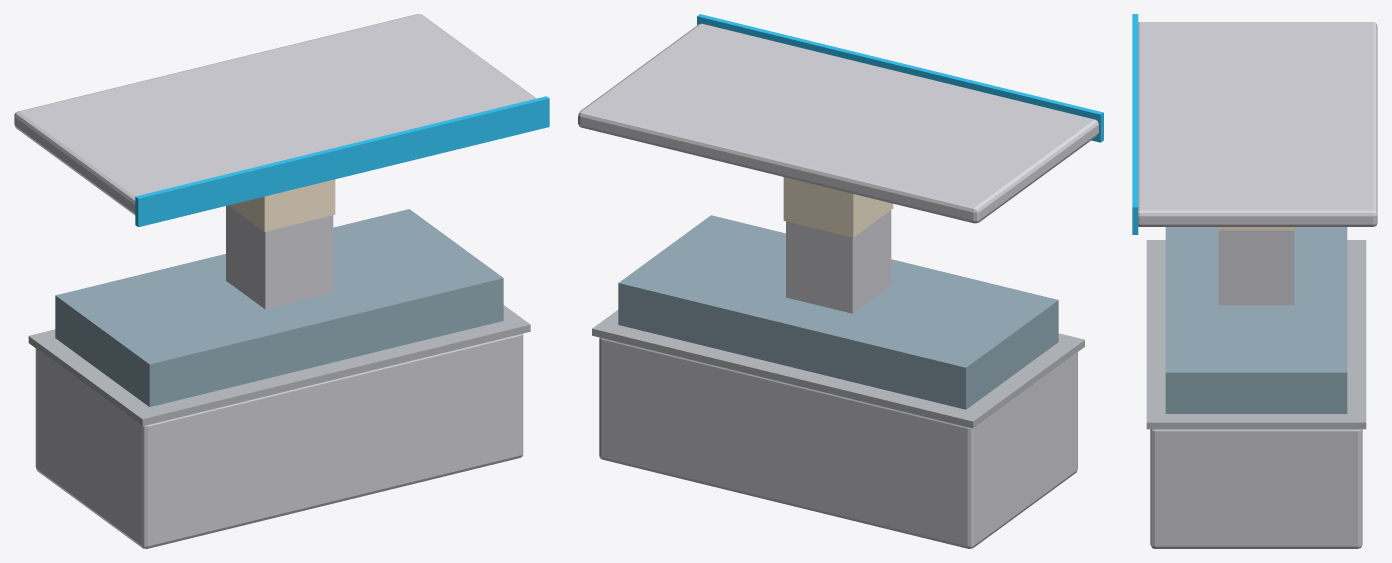
File: kiosk.glb
3 views of the same model, side by side, from view 1: azimuth 30°, elevation 25°; view 2: azimuth 150°, elevation 25°; view 3: azimuth 270°, elevation 25° (orthographic). The views are drawn at different scales.
Visible parts, largest first — view 1: kiosk; view 2: kiosk; view 3: kiosk.
Part boxes in pixels (<box>): kiosk: <box>14,14,549,548</box>; kiosk: <box>578,14,1103,548</box>; kiosk: <box>1132,14,1377,548</box>.
Size of the model in its own units: 3.02 by 2.55 by 1.62.
1 material, 1 textured.
